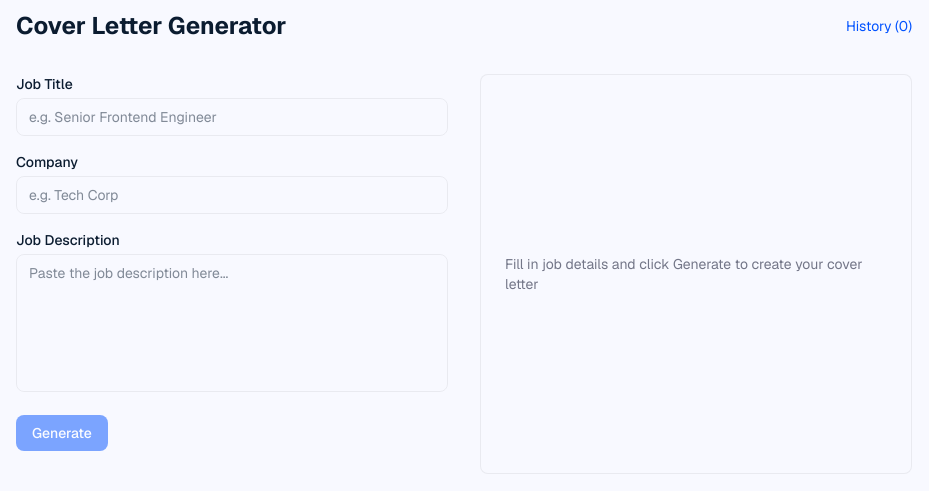
CoverLetterClient › generates a cover letter on button click
Type "Engineer" into the field with placeholder "e.g. Senior Frontend Engineer" at (232, 117), box [16,98,448,136]
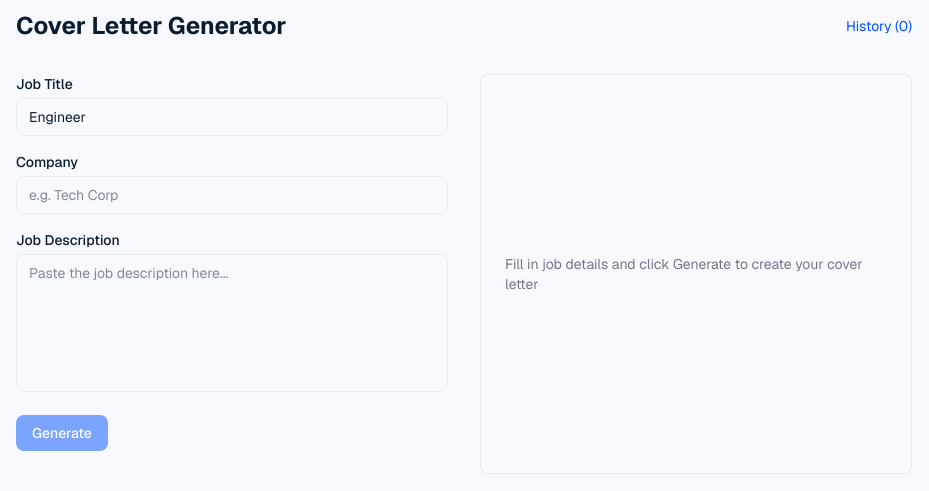
Type "Acme Corp" into the field with placeholder "e.g. Tech Corp" at (232, 195), box [16,176,448,214]
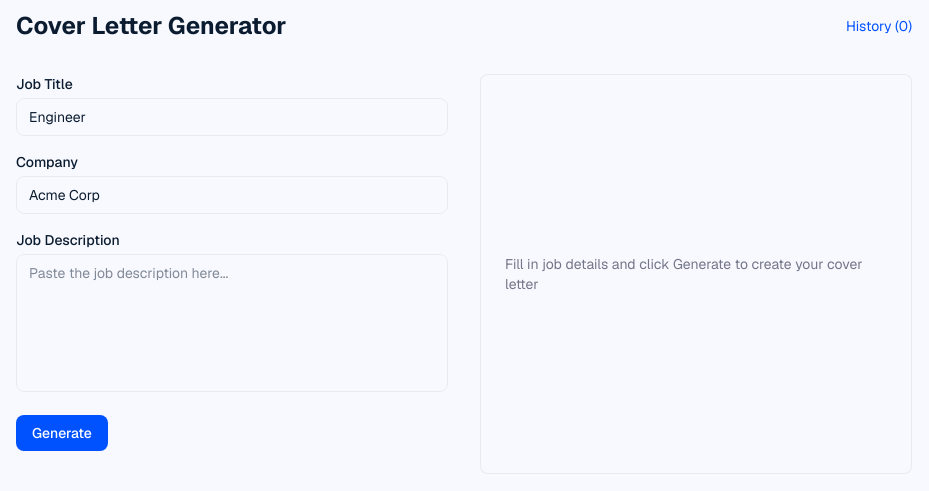
Click the button "Generate" at (62, 433), box [16,415,108,451]
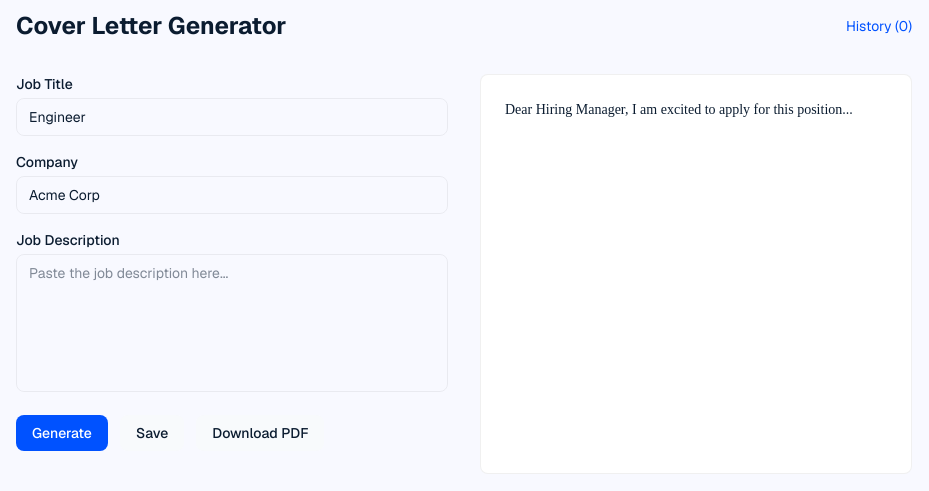
Check: the text "Hiring Manager" is shown, box [505,102,853,117]
